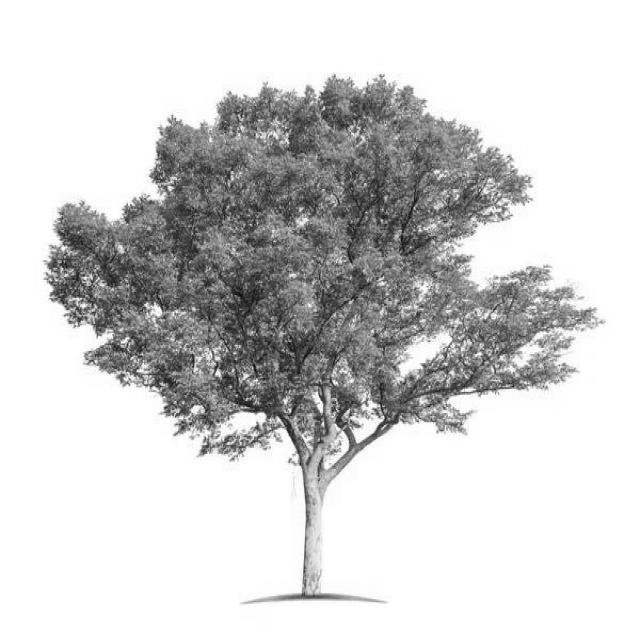Tree: (47, 78, 597, 596)
